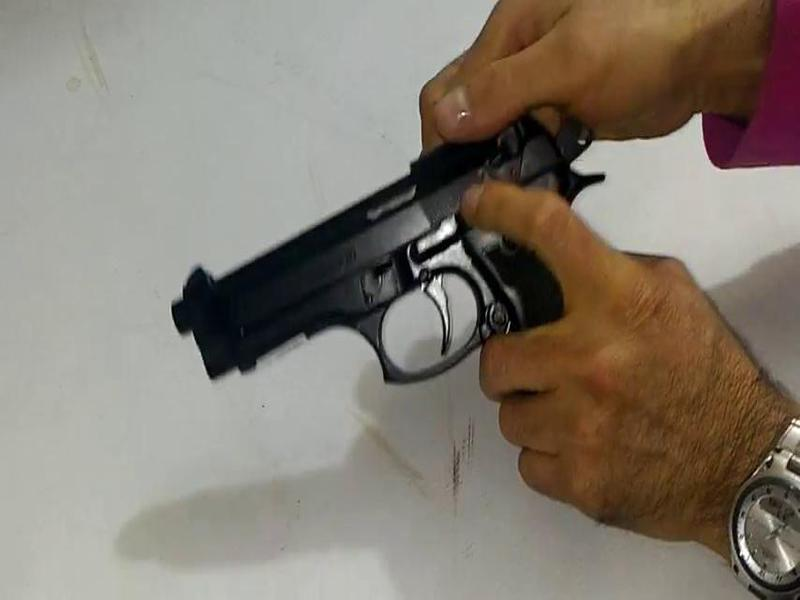Pistola: (156, 81, 623, 454)
